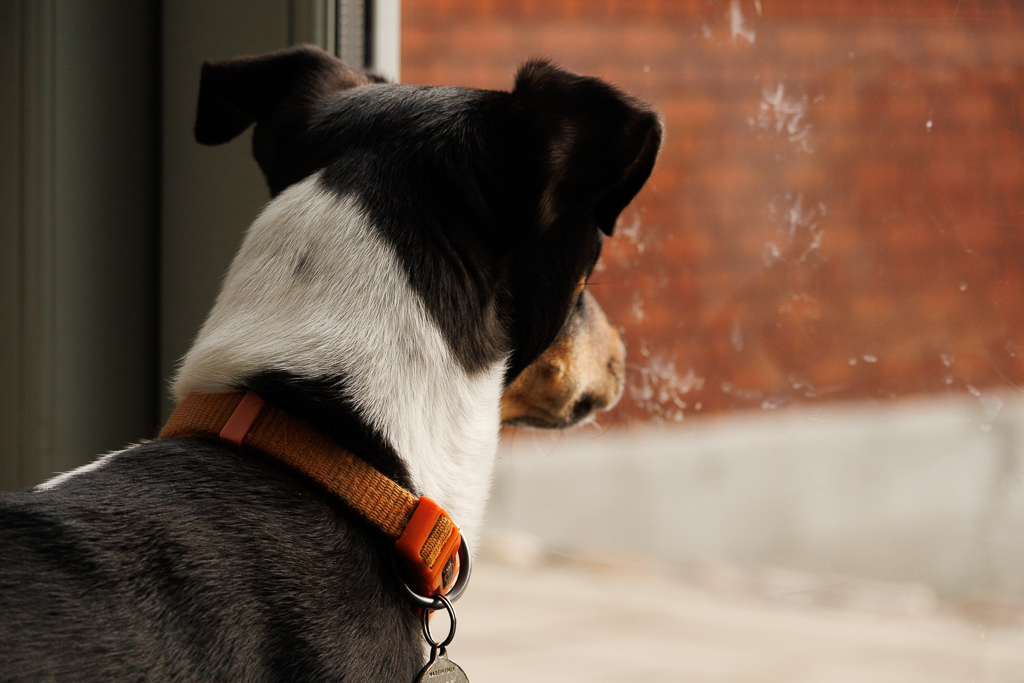Dog: (0, 33, 683, 682)
